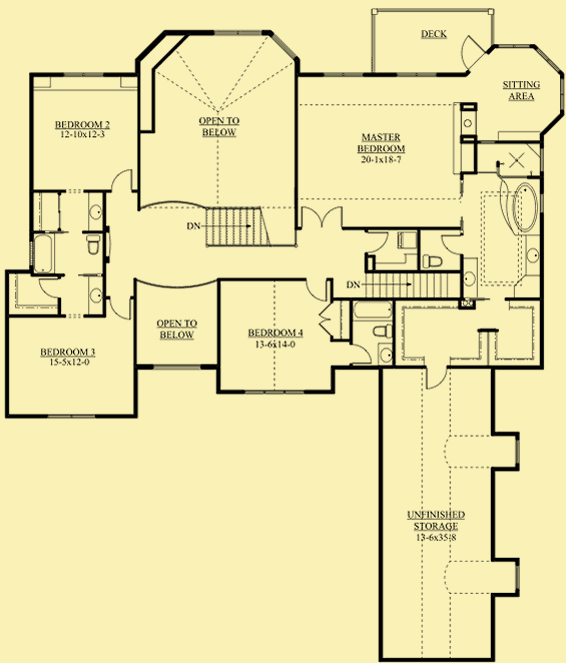door: (300, 203, 344, 231), (459, 33, 487, 71), (362, 228, 393, 258), (300, 275, 329, 304), (440, 228, 467, 259), (424, 360, 450, 390), (33, 277, 65, 301), (342, 341, 371, 367), (110, 169, 138, 195), (107, 296, 132, 321), (318, 303, 334, 339)
large_sink: (81, 233, 102, 262), (418, 253, 444, 274), (369, 320, 394, 338)
small_sink: (522, 236, 540, 278), (85, 193, 103, 229), (463, 256, 478, 297), (88, 275, 103, 315), (376, 341, 392, 367)
stairs: (184, 206, 277, 248), (359, 270, 460, 300)
tub: (507, 179, 541, 234), (352, 299, 398, 323), (32, 232, 55, 274)
window: (150, 363, 201, 370)
